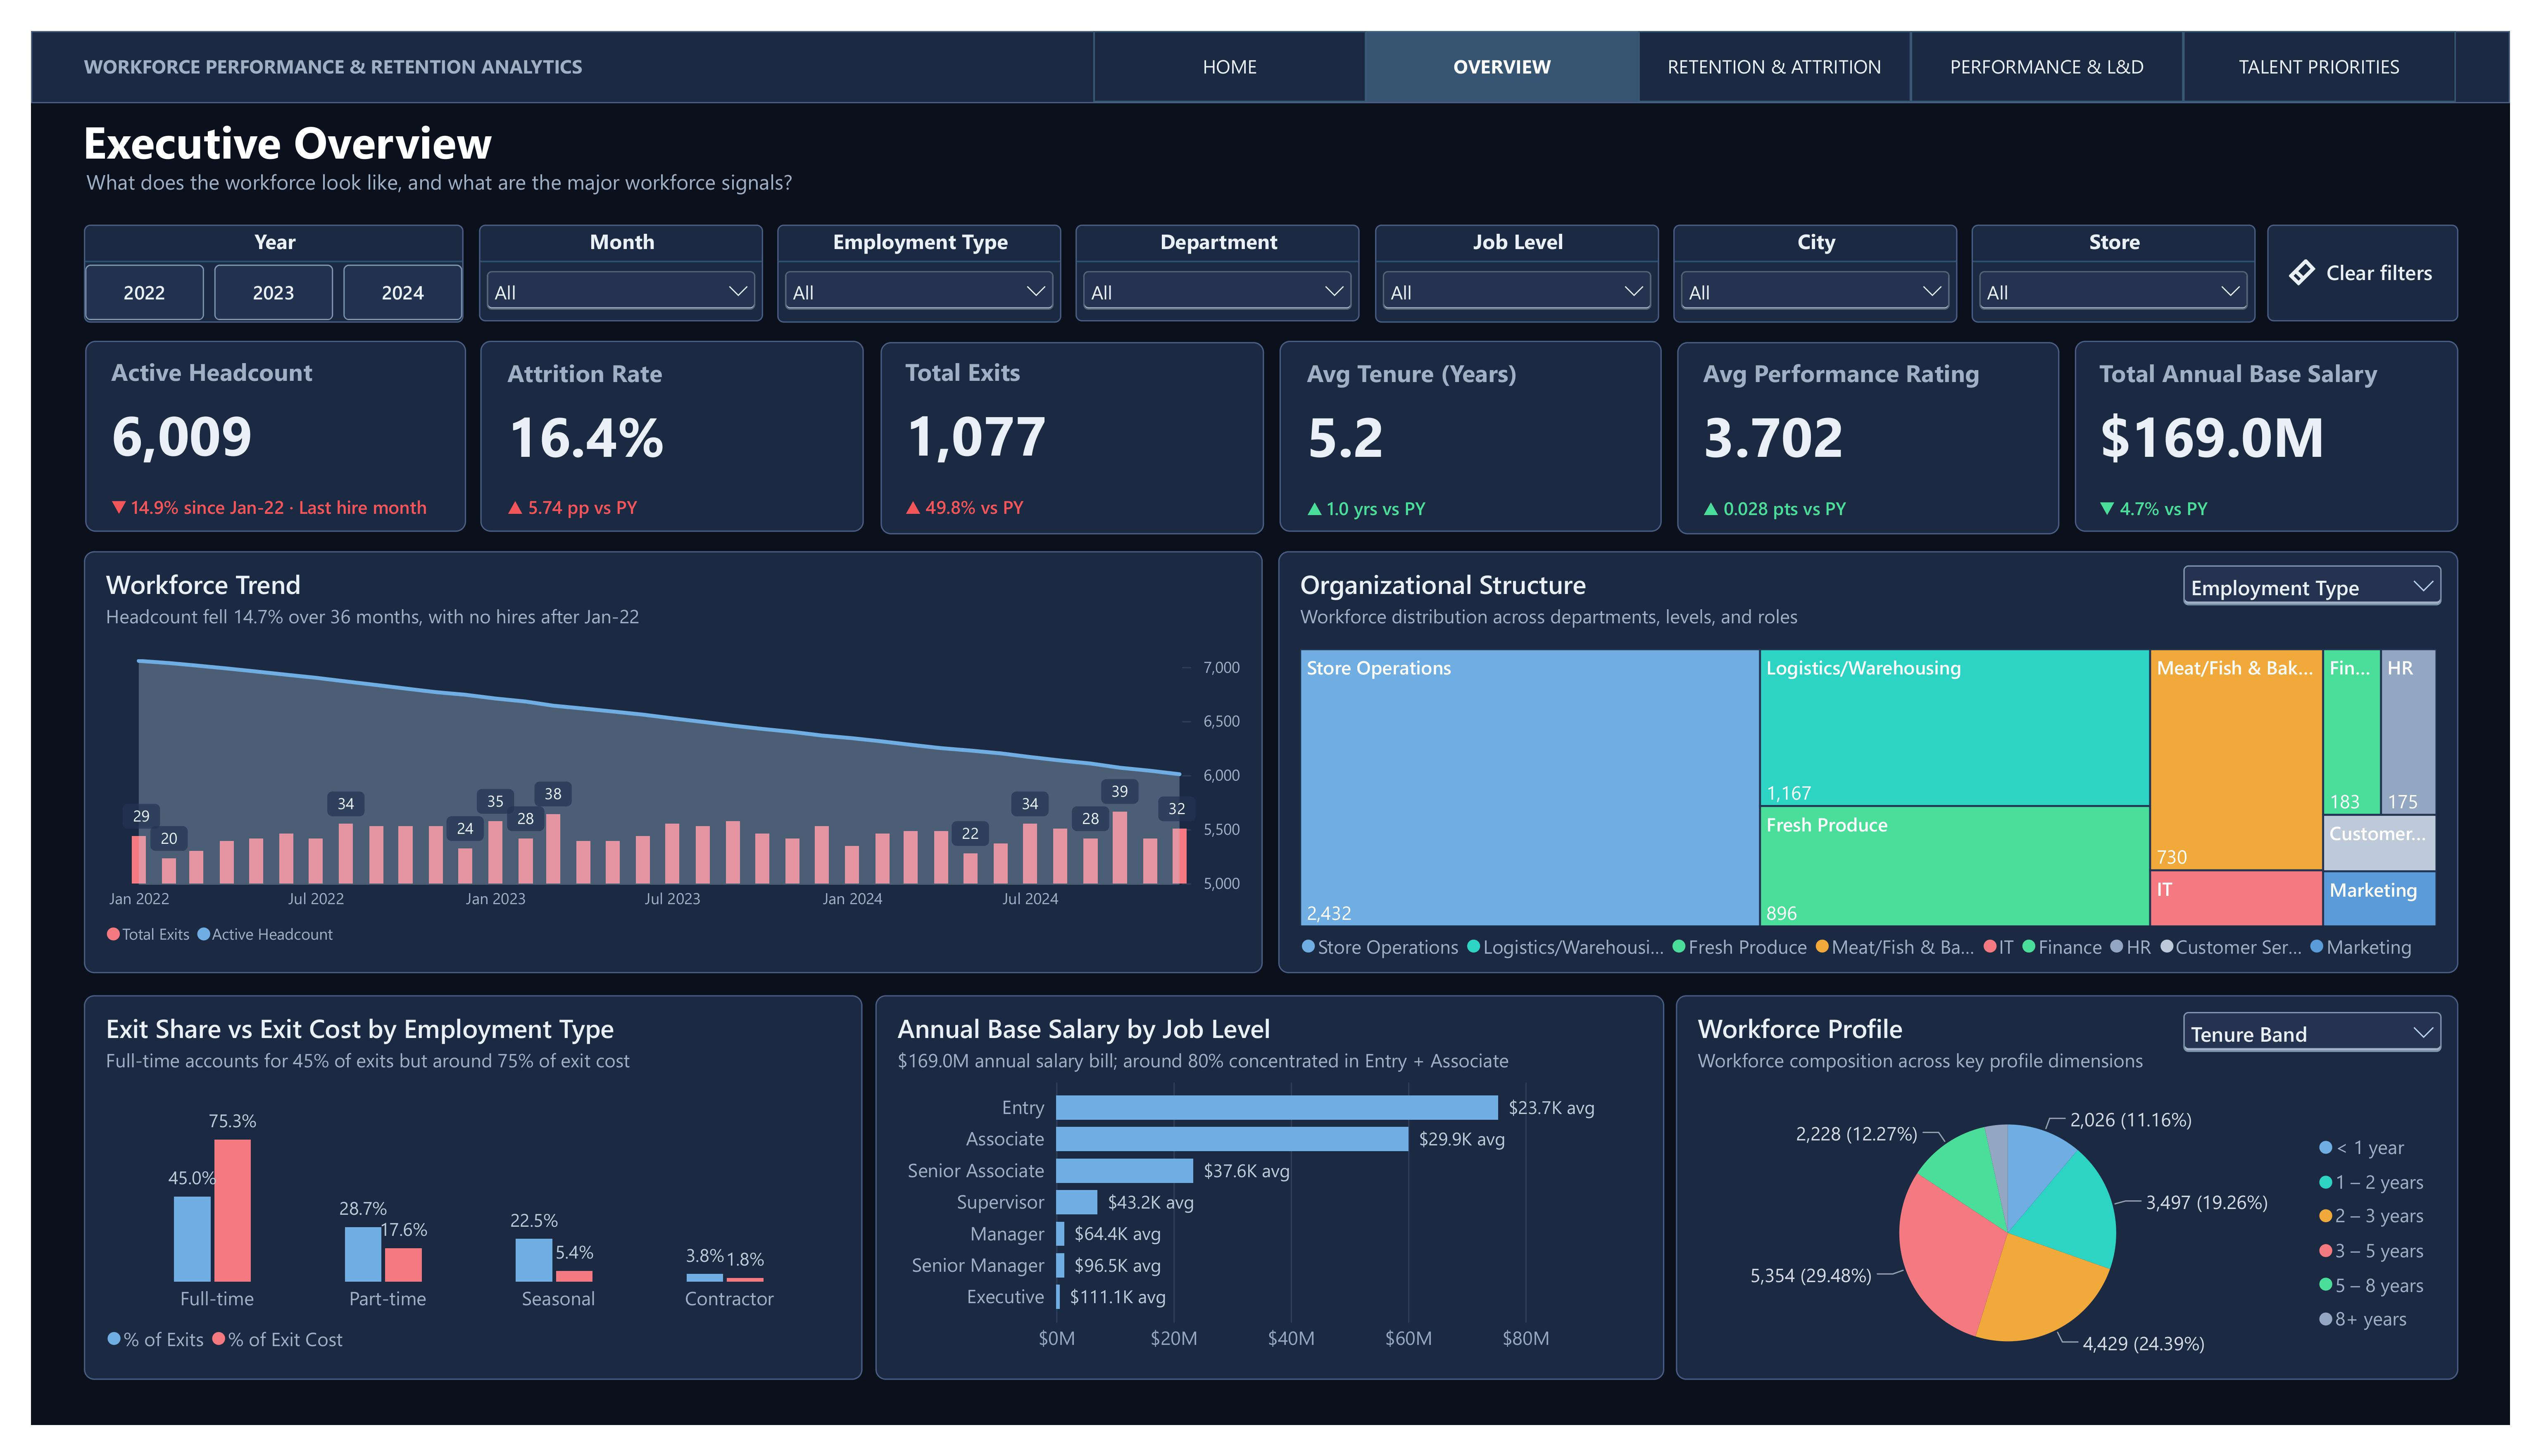

Layout of this report page (visuals, bound fields, positions):
{"tool":"powerbi","page":{"name":"OVERVIEW","canvas":[1920,1080],"ordinal":1},"visuals":[{"type":"shape","box":[658,240.7,297,148.8],"z":0},{"type":"shape","box":[41.7,240,295,148.3],"z":1000},{"type":"shape","box":[348.3,240,296.7,148.3],"z":2000},{"type":"shape","box":[966.7,240,296.7,148.3],"z":3000},{"type":"shape","box":[1275.1,240.7,296.2,148.8],"z":4000},{"type":"shape","box":[1583.3,240,296.7,148.3],"z":5000},{"type":"textbox","box":[0,0,1920,56],"z":6000},{"type":"textbox","box":[43,106,1399,38.9],"z":7000},{"type":"textbox","box":[40,62,1398,66],"z":8000},{"type":"advancedSlicerVisual","title":"Year","fields":{"Values":["Dim Date.Year"]},"box":[40.6,150.3,294.7,75.9],"z":9000},{"type":"slicer","title":"Month","fields":{"Values":["Dim Date.Month Name"]},"box":[346.8,150.3,220,75],"z":10000},{"type":"slicer","title":"Department","fields":{"Values":["Dim Department.Department"]},"box":[809.3,150.3,220,75],"z":11000},{"type":"slicer","title":"Job Level","fields":{"Values":["Dim Employee.Job Level"]},"box":[1040.5,150,220,75.9],"z":12000},{"type":"slicer","title":"City","fields":{"Values":["Dim City.City"]},"box":[1271.8,150,220,75.9],"z":13000},{"type":"lineClusteredColumnComboChart","title":"Workforce Trend","fields":{"Category":["Dim Date.Period Month"],"Y":["#Measures.Total Exits"],"Y2":["#Measures.Active Headcount"]},"box":[40.6,403.2,913.8,326.9],"z":14000},{"type":"clusteredColumnChart","title":"Exit Share vs Exit Cost by Employment Type","fields":{"Category":["Dim Employee.Employment Type"],"Y":["#Measures.% of Exits (Employment Type)","#Measures.% of Exit People Cost (Employment Type)"]},"box":[40.6,746.8,603.6,298.2],"z":15000},{"type":"cardVisual","fields":{"Data":["#Measures.Active Headcount"]},"box":[49.6,248,296.2,191.1],"z":16000},{"type":"cardVisual","fields":{"Data":["#Measures.Avg Performance Rating"]},"box":[1283,248,296.2,192.6],"z":17000},{"type":"cardVisual","fields":{"Data":["#Measures.Avg Tenure (Active, Years)"]},"box":[975.8,248.1,296.2,192.6],"z":18000},{"type":"cardVisual","fields":{"Data":["#Measures.Total Salary Bill (Active)"]},"box":[1590.3,248,297.6,192.6],"z":19000},{"type":"slicer","title":"Employment Type","fields":{"Values":["Dim Employee.Employment Type"]},"box":[578,150.3,220,75.9],"z":20000},{"type":"clusteredBarChart","title":"Annual Base Salary by Job Level","fields":{"Category":["Dim Employee.Job Level"],"Y":["#Measures.Total Salary Bill (Active)_"]},"box":[653.7,746.8,610.8,298.2],"z":21000},{"type":"pageNavigator","box":[823.1,0,1057,55],"z":22000},{"type":"slicer","title":"Store","fields":{"Values":["Dim Store.Store Name"]},"box":[1503,150,220,75.9],"z":23000},{"type":"pieChart","title":"Workforce Profile","fields":{"Category":["Fact Employee Month.Tenure Band"],"Y":["#Measures.Active Headcount (Period)"]},"box":[1274.1,746.8,606,298.2],"z":24000},{"type":"treemap","title":"Organizational Structure","fields":{"Group":["Dim Department.Department","Dim Employee.Job Level","Dim Employee.Job Role"],"Values":["#Measures.Active Headcount (Period)"]},"box":[966.3,403.2,913.8,326.9],"z":25000},{"type":"slicer","fields":{"Values":["Para_Attrition Analysis By.Attrition Analysis By"]},"box":[1662,409,210,74],"z":26000},{"type":"actionButton","box":[1732.2,150.3,147.9,75],"z":27000},{"type":"cardVisual","fields":{"Data":["#Measures.Attrition Rate"]},"box":[357.4,248,296.2,192.6],"z":28000},{"type":"slicer","fields":{"Values":["Parameter_Workforce Profile.Workforce Profile"]},"box":[1662,755,210,74],"z":29000},{"type":"cardVisual","fields":{"Data":["#Measures.Total Exits"]},"box":[665,248.1,296.2,191.1],"z":30000}]}

Visuals, with their boxes on the page's 1920x1080 design canvas (x1, y1, x2, y2). These are canvas units, not pixel positions in the 2541x1456 screenshot, which may show the page scaled, cropped or inside an application window:
shape: (658, 241, 955, 390)
shape: (42, 240, 337, 388)
shape: (348, 240, 645, 388)
shape: (967, 240, 1263, 388)
shape: (1275, 241, 1571, 390)
shape: (1583, 240, 1880, 388)
textbox: (0, 0, 1920, 56)
textbox: (43, 106, 1442, 145)
textbox: (40, 62, 1438, 128)
"Year" advancedSlicerVisual: (41, 150, 335, 226)
"Month" slicer: (347, 150, 567, 225)
"Department" slicer: (809, 150, 1029, 225)
"Job Level" slicer: (1040, 150, 1260, 226)
"City" slicer: (1272, 150, 1492, 226)
"Workforce Trend" lineClusteredColumnComboChart: (41, 403, 954, 730)
"Exit Share vs Exit Cost by Employment Type" clusteredColumnChart: (41, 747, 644, 1045)
cardVisual - #Measures.Active Headcount: (50, 248, 346, 439)
cardVisual - #Measures.Avg Performance Rating: (1283, 248, 1579, 441)
cardVisual - #Measures.Avg Tenure (Active, Years): (976, 248, 1272, 441)
cardVisual - #Measures.Total Salary Bill (Active): (1590, 248, 1888, 441)
"Employment Type" slicer: (578, 150, 798, 226)
"Annual Base Salary by Job Level" clusteredBarChart: (654, 747, 1264, 1045)
pageNavigator: (823, 0, 1880, 55)
"Store" slicer: (1503, 150, 1723, 226)
"Workforce Profile" pieChart: (1274, 747, 1880, 1045)
"Organizational Structure" treemap: (966, 403, 1880, 730)
slicer - Para_Attrition Analysis By.Attrition Analysis By: (1662, 409, 1872, 483)
actionButton: (1732, 150, 1880, 225)
cardVisual - #Measures.Attrition Rate: (357, 248, 654, 441)
slicer - Parameter_Workforce Profile.Workforce Profile: (1662, 755, 1872, 829)
cardVisual - #Measures.Total Exits: (665, 248, 961, 439)
